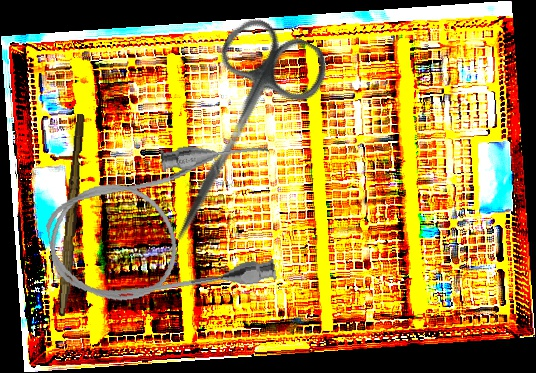Cannula: (36, 131, 292, 319)
Iris Scissors: (135, 8, 337, 266)
Scalpel Handle: (57, 113, 87, 317)
